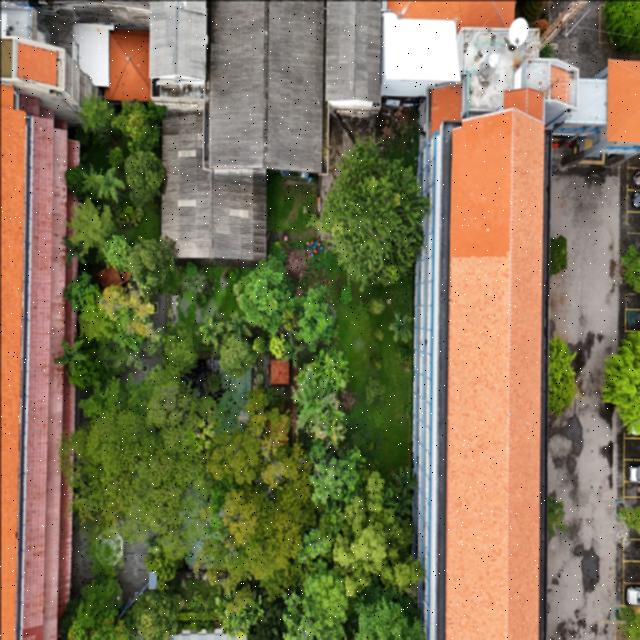Tree: (316, 148, 434, 290), (231, 254, 293, 340), (126, 232, 172, 296), (122, 147, 167, 206), (616, 242, 640, 297)
